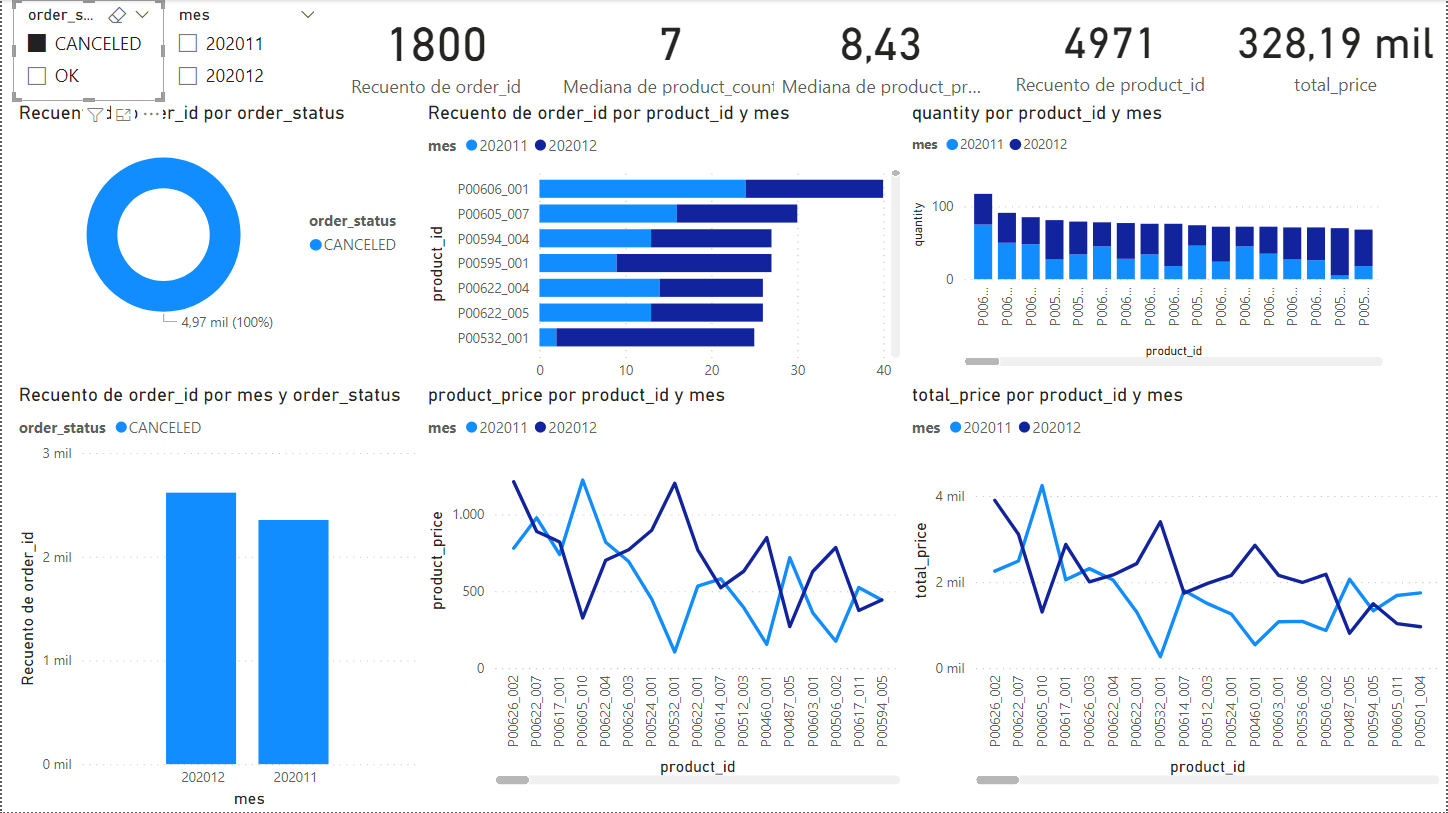

The dashboard page shown, as its layout file describes it:
{"tool":"powerbi","page":{"name":"Página 1","canvas":[1280,720],"ordinal":0},"visuals":[{"type":"slicer","fields":{"Values":["shopee tbl_product_month.order_status"]},"box":[10.2,0,133.5,89.9],"z":0},{"type":"donutChart","fields":{"Category":["shopee tbl_product_month.order_status"],"Y":["CountNonNull(shopee tbl_product_month.order_id)"]},"box":[10.2,89.9,362.4,217.8],"z":1000},{"type":"columnChart","fields":{"Category":["shopee tbl_product_month.mes"],"Y":["CountNonNull(shopee tbl_product_month.order_id)"],"Series":["shopee tbl_product_month.order_status"]},"box":[10.2,339.2,362.4,380.9],"z":2000},{"type":"barChart","fields":{"Category":["shopee tbl_product_month.product_id"],"Y":["CountNonNull(shopee tbl_product_month.order_id)"],"Series":["shopee tbl_product_month.mes"]},"box":[372.6,89.9,429.1,269.7],"z":3000},{"type":"lineChart","fields":{"Y":["Sum(shopee tbl_product_month.product_price)"],"Category":["shopee tbl_product_month.product_id"],"Series":["shopee tbl_product_month.mes"]},"box":[372.6,339.2,429.1,360.6],"z":4000},{"type":"columnChart","fields":{"Y":["Sum(shopee tbl_product_month.quantity)"],"Category":["shopee tbl_product_month.product_id"],"Series":["shopee tbl_product_month.mes"]},"box":[801.7,89.9,428.2,240.1],"z":5000},{"type":"lineChart","fields":{"Y":["Sum(shopee tbl_product_month.total_price)"],"Category":["shopee tbl_product_month.product_id"],"Series":["shopee tbl_product_month.mes"]},"box":[801.7,339.2,478.3,360.6],"z":6000},{"type":"card","fields":{"Values":["Sum(shopee tbl_product_month.total_price)"]},"box":[1084.4,0,195.6,89.9],"z":6001},{"type":"card","fields":{"Values":["Median(shopee vw_month_orders.product_count)"]},"box":[485.7,0,213.2,89.9],"z":6002},{"type":"card","fields":{"Values":["Median(shopee tbl_product_month.product_price)"]},"box":[685,0,190,89.9],"z":6003},{"type":"card","fields":{"Values":["CountNonNull(shopee tbl_product_month.product_id)"]},"box":[875,0,215,89.9],"z":6004},{"type":"card","fields":{"Values":["Count(shopee tbl_product_month.order_id)"]},"box":[290.1,0,190,89.9],"z":6005},{"type":"slicer","fields":{"Values":["shopee tbl_product_month.mes"]},"box":[143.7,0,146.4,89.9],"z":6006}]}

Visuals, with their boxes in screenshot pixels (x1, y1, x2, y2), scaled from the page's 1280x720 canvas onto the 1448x813 screenshot:
slicer - shopee tbl_product_month.order_status: left=12, top=0, right=163, bottom=102
donutChart - shopee tbl_product_month.order_status x CountNonNull(shopee tbl_product_month.order_id): left=12, top=102, right=422, bottom=347
columnChart - shopee tbl_product_month.mes x CountNonNull(shopee tbl_product_month.order_id): left=12, top=383, right=422, bottom=812
barChart - shopee tbl_product_month.product_id x CountNonNull(shopee tbl_product_month.order_id): left=422, top=102, right=907, bottom=406
lineChart - Sum(shopee tbl_product_month.product_price) x shopee tbl_product_month.product_id: left=422, top=383, right=907, bottom=790
columnChart - Sum(shopee tbl_product_month.quantity) x shopee tbl_product_month.product_id: left=907, top=102, right=1391, bottom=373
lineChart - Sum(shopee tbl_product_month.total_price) x shopee tbl_product_month.product_id: left=907, top=383, right=1447, bottom=790
card - Sum(shopee tbl_product_month.total_price): left=1227, top=0, right=1447, bottom=102
card - Median(shopee vw_month_orders.product_count): left=549, top=0, right=791, bottom=102
card - Median(shopee tbl_product_month.product_price): left=775, top=0, right=990, bottom=102
card - CountNonNull(shopee tbl_product_month.product_id): left=990, top=0, right=1233, bottom=102
card - Count(shopee tbl_product_month.order_id): left=328, top=0, right=543, bottom=102
slicer - shopee tbl_product_month.mes: left=163, top=0, right=328, bottom=102
